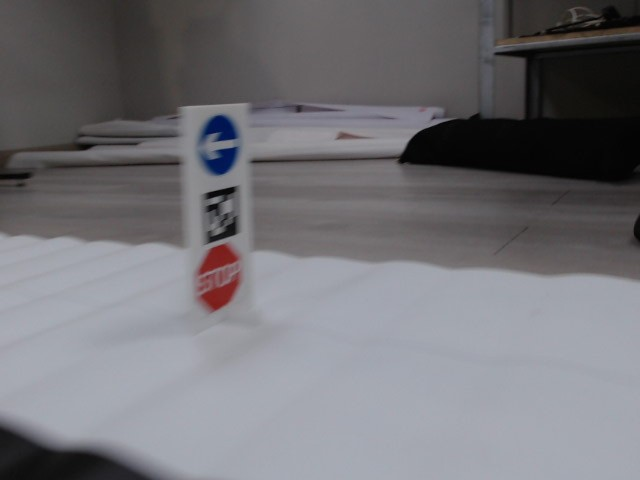Stop: (196, 246, 243, 305)
